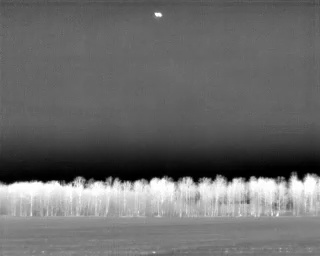DRONE: (151, 8, 165, 22)
